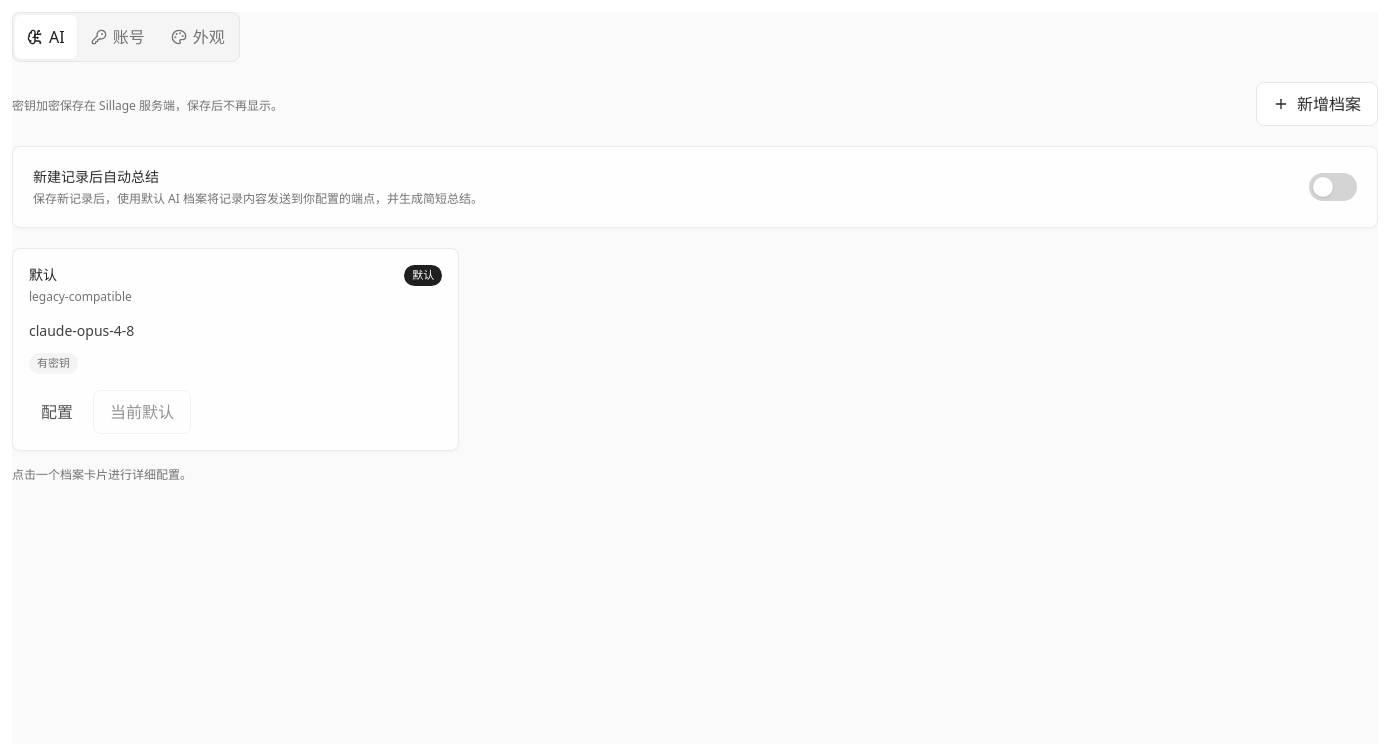
SettingsWorkspace › keeps an existing unknown provider available as a compatibility option
Expected: the text "legacy-compatible" is shown, 29,289 -> 132,305
Click the button "配置".
click(57, 412)  # box 29,390 -> 85,434
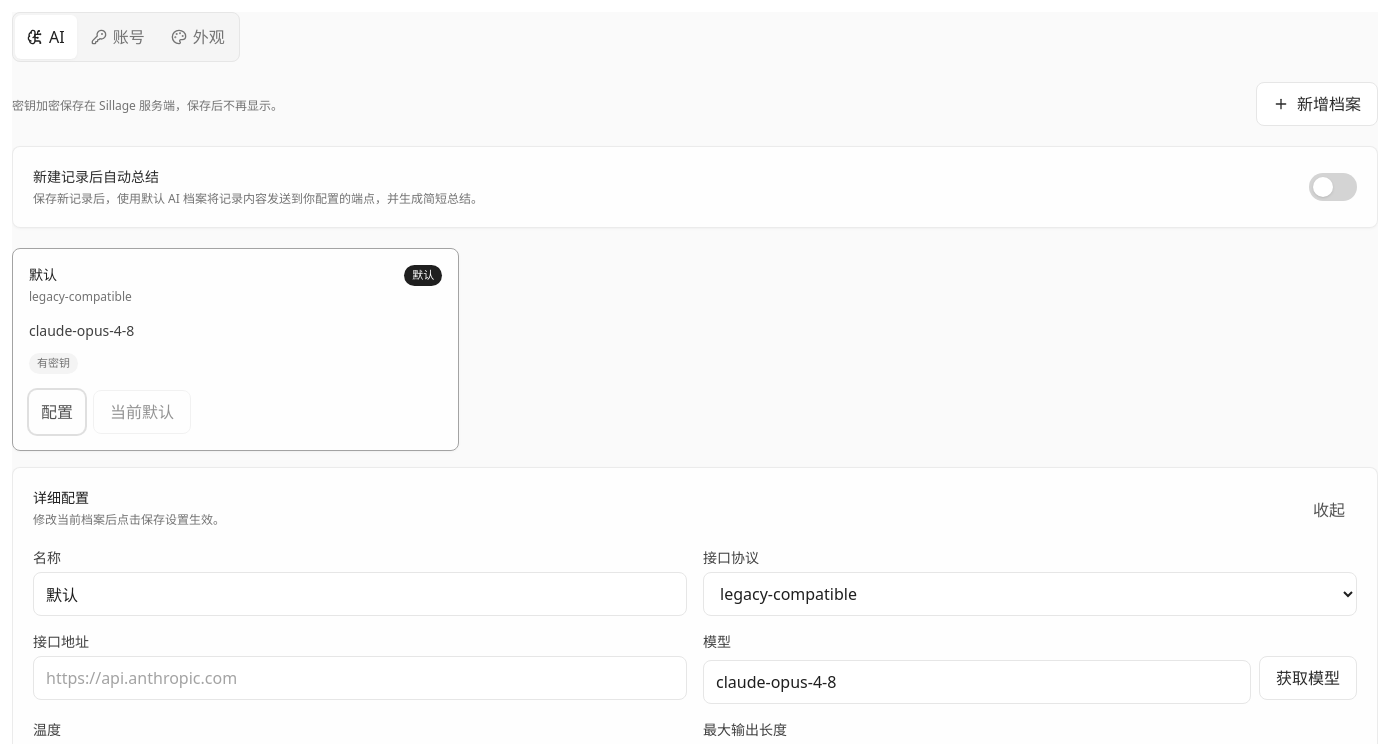
Result: the dropdown labelled "接口协议" shows "legacy-compatible" at 703,572 -> 1357,616
